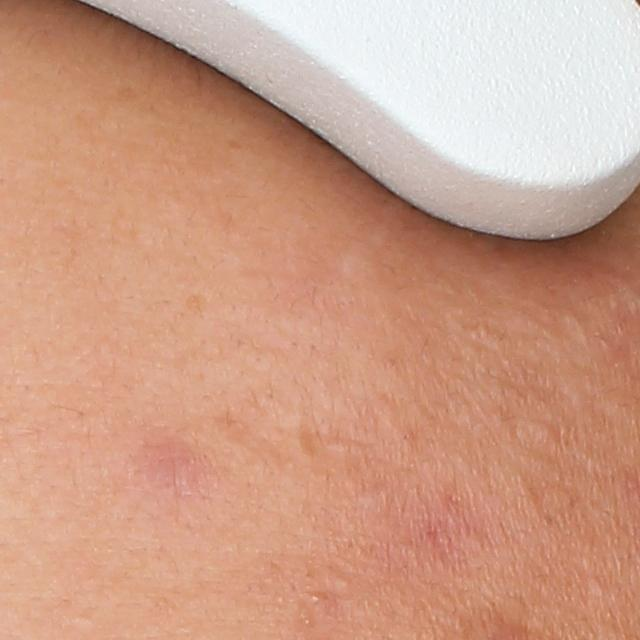comedo: (529, 418, 563, 444)
